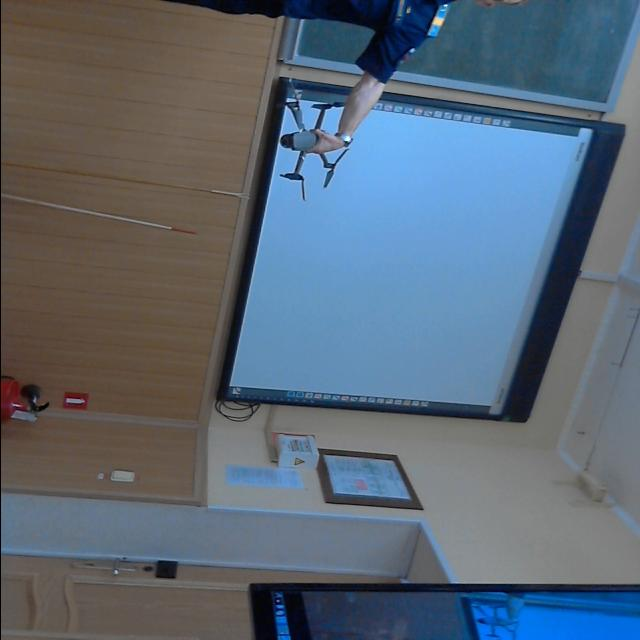drone: (260, 78, 346, 206)
